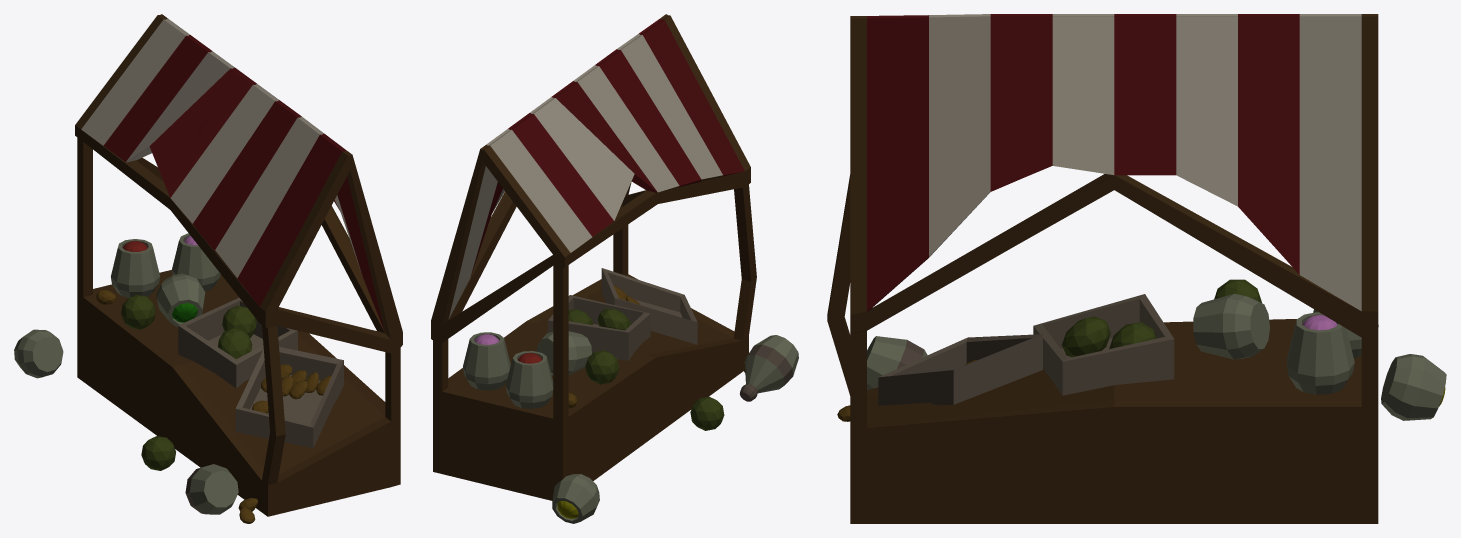
Rendered from Market stand v2.fbx.
3 views of the same model, side by side, from view 1: azimuth 30°, elevation 25°; view 2: azimuth 150°, elevation 25°; view 3: azimuth 270°, elevation 25° (orthographic). The views are drawn at different scales.
Visible parts, largest first — view 1: Market stand v2; view 2: Market stand v2; view 3: Market stand v2.
Part boxes in pixels (bbox=[...]): Market stand v2: bbox=[14, 14, 402, 523]; Market stand v2: bbox=[431, 14, 798, 523]; Market stand v2: bbox=[827, 14, 1446, 523].
Size of the model in its own units: 935 by 1560 by 1844.
